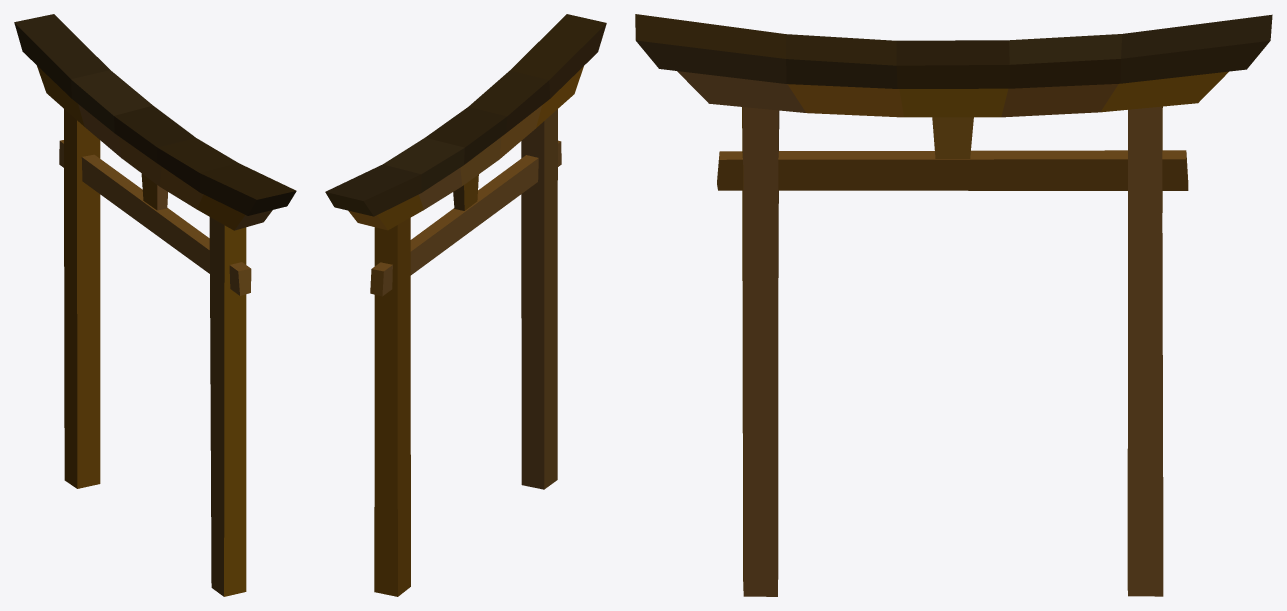
Rendered from GateMyoujin.glb.
3 views of the same model, side by side, from view 1: azimuth 30°, elevation 25°; view 2: azimuth 150°, elevation 25°; view 3: azimuth 270°, elevation 25° (orthographic). The views are drawn at different scales.
Parts seen in each view (by area): view 1: GateMyoujin; view 2: GateMyoujin; view 3: GateMyoujin.
Part boxes in pixels (<box>): GateMyoujin: <box>14,14,296,596</box>; GateMyoujin: <box>325,14,606,596</box>; GateMyoujin: <box>635,14,1272,596</box>.
Bounding box in the file's own units: 0.3541 × 3.56 × 3.65.
